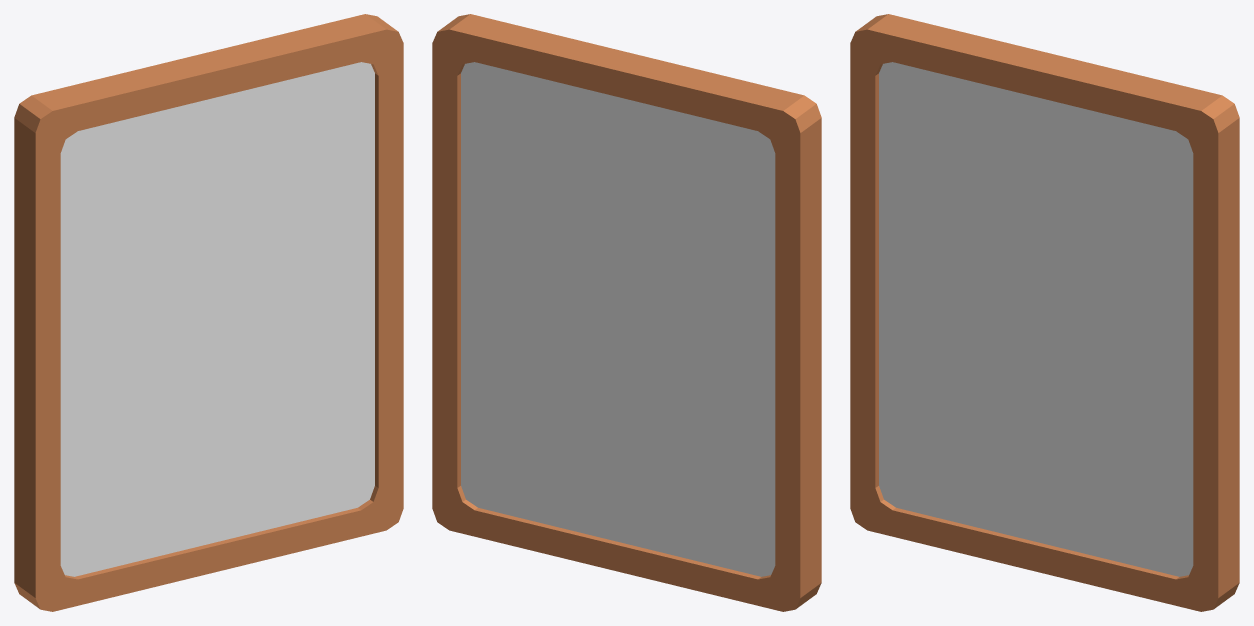
Rendered from Props_Poster_04.fbx.
3 renders of one model, left to right at view 1: azimuth 30°, elevation 25°; view 2: azimuth 150°, elevation 25°; view 3: azimuth 330°, elevation 25°, orthographic.
Visible parts, largest first — view 1: Props_Poster_04; view 2: Props_Poster_04; view 3: Props_Poster_04.
Boxes of the visible parts, left/top/right/bottom form: Props_Poster_04: left=14, top=14, right=403, bottom=611; Props_Poster_04: left=432, top=14, right=821, bottom=611; Props_Poster_04: left=850, top=14, right=1239, bottom=611.
Size of the model in its own units: 100 by 130 by 10.
